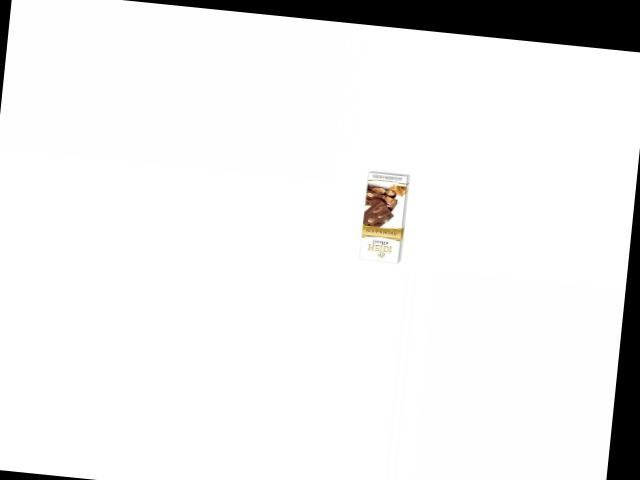chocolate: (349, 170, 416, 269)
